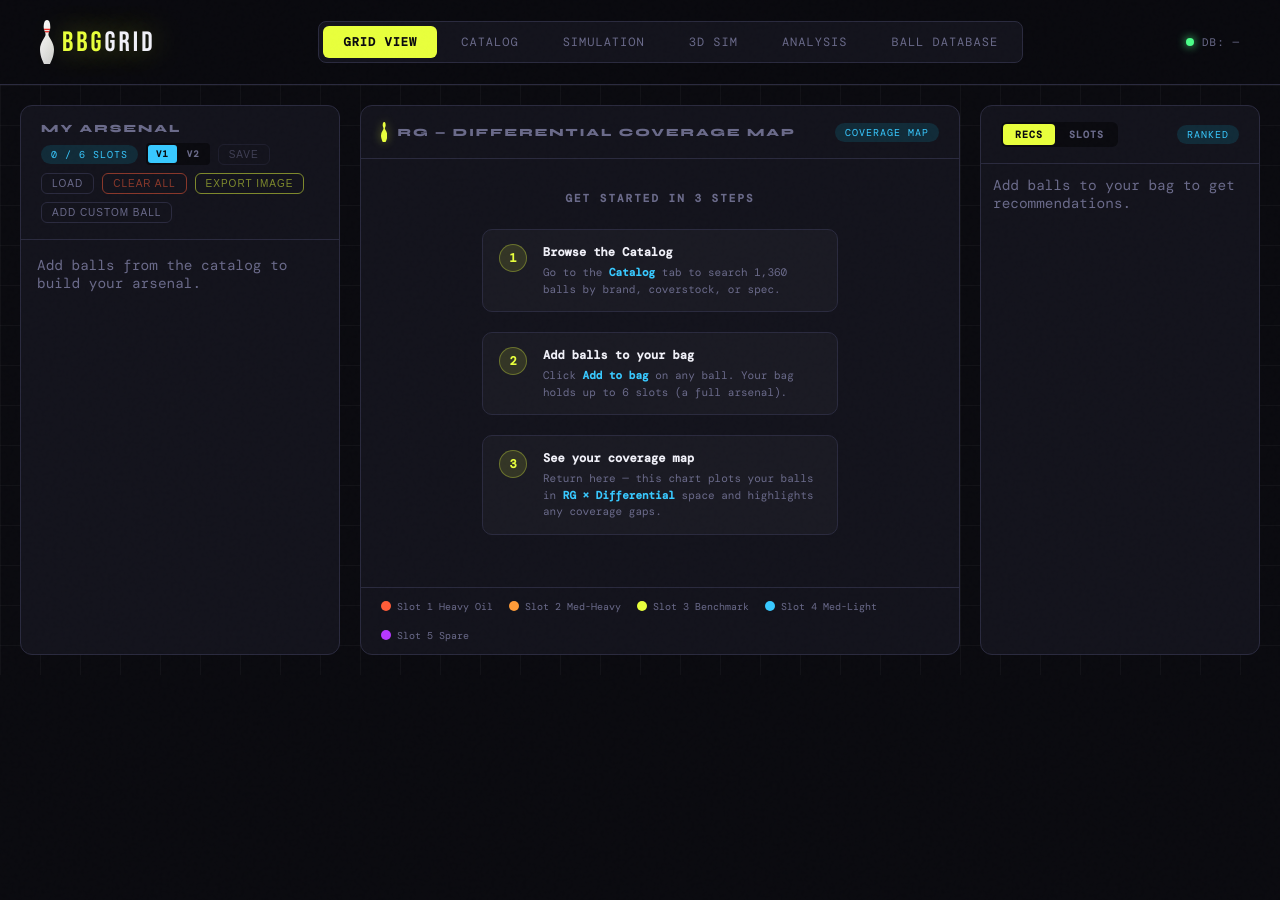
Test case: App integration › add ball from catalog to bag shows ball in arsenal on Grid View
Click the tab "Catalog" at (490, 42), box 441,26 -> 539,58
(page scrolled)
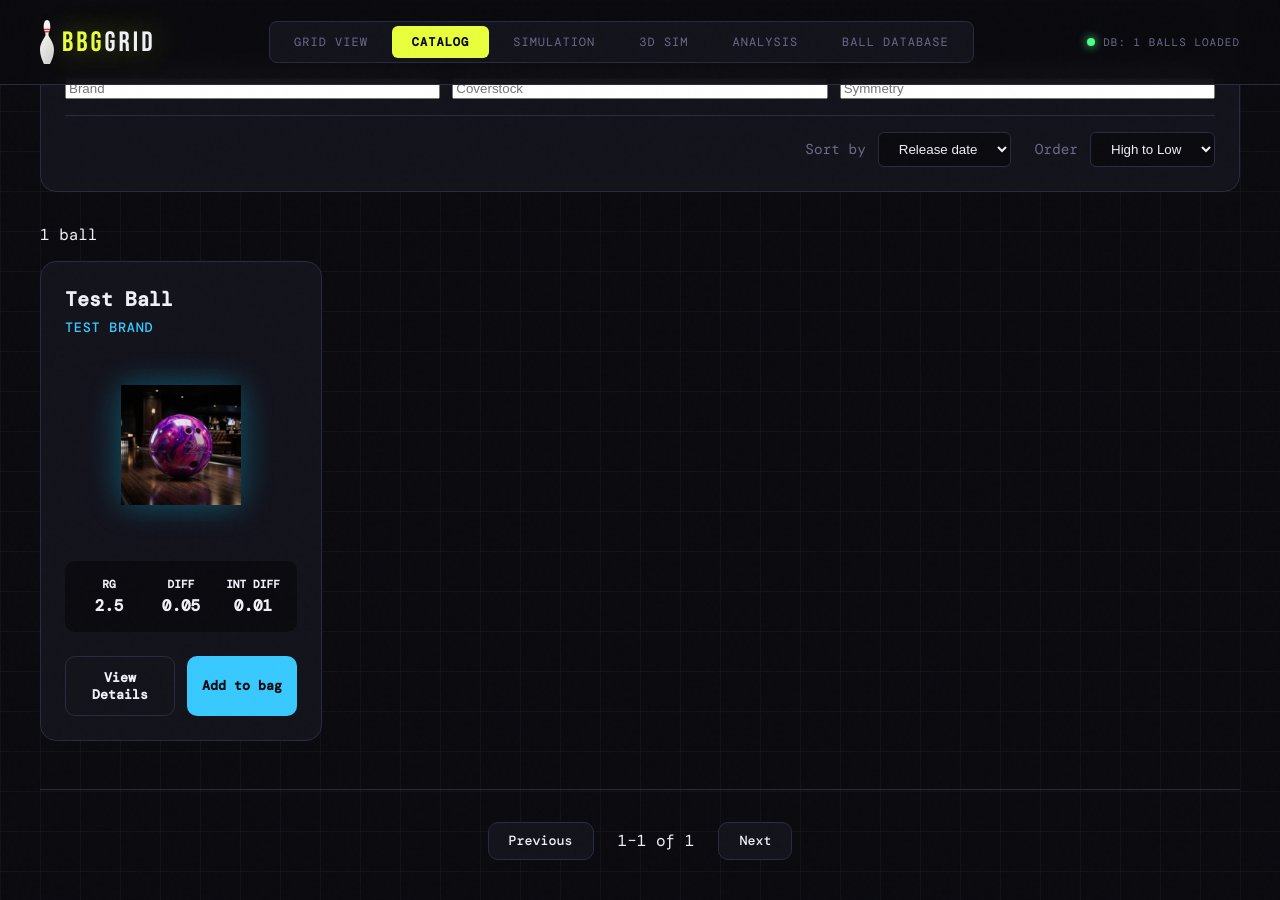
Expected: the text "Test Ball" is shown, 65,286 -> 173,312
Click the button "Add to bag" at (242, 686), box 187,656 -> 297,716
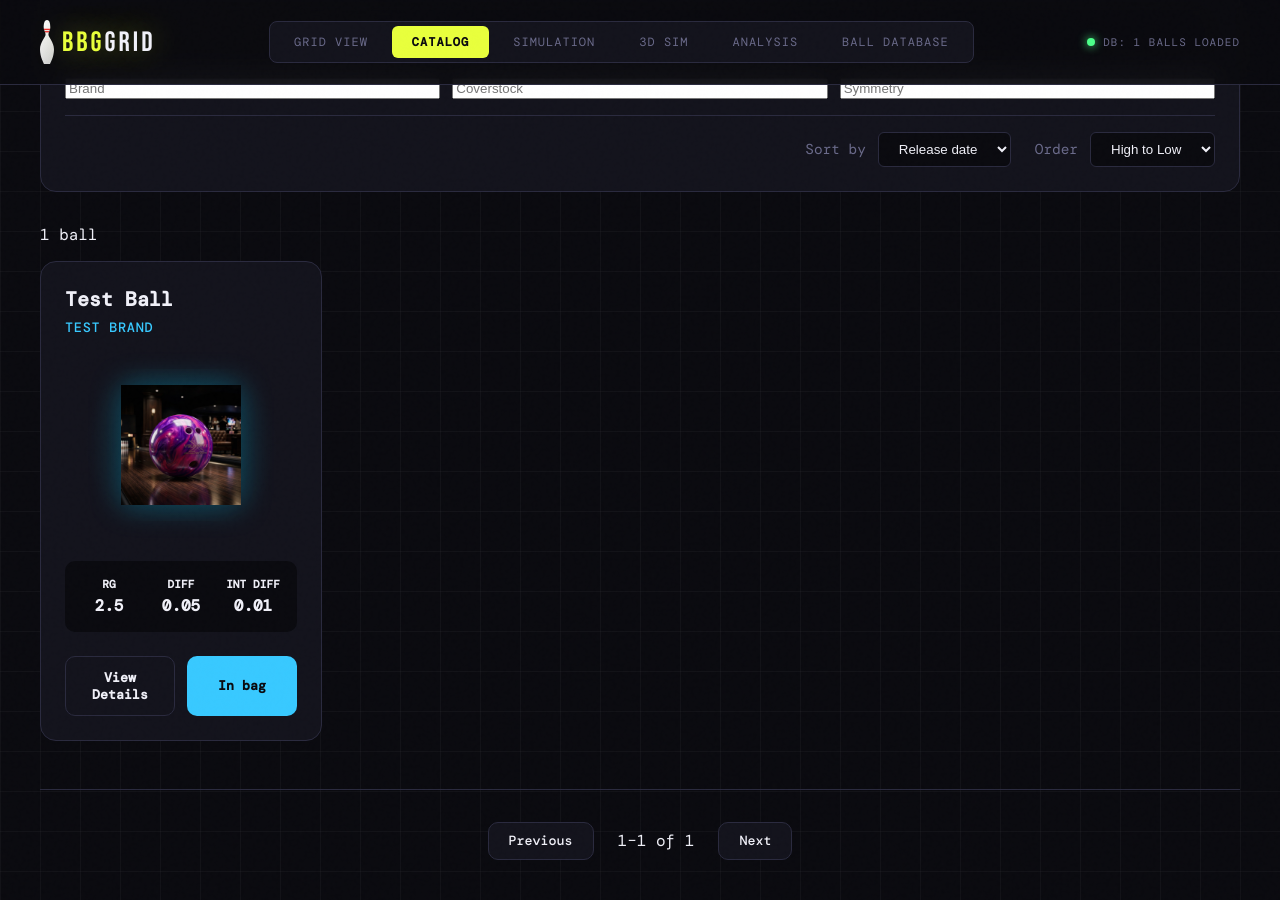
Expected: the button "In bag" is shown, 187,656 -> 297,716
Click the tab "Grid View" at (331, 42), box 274,26 -> 388,58
(page scrolled)
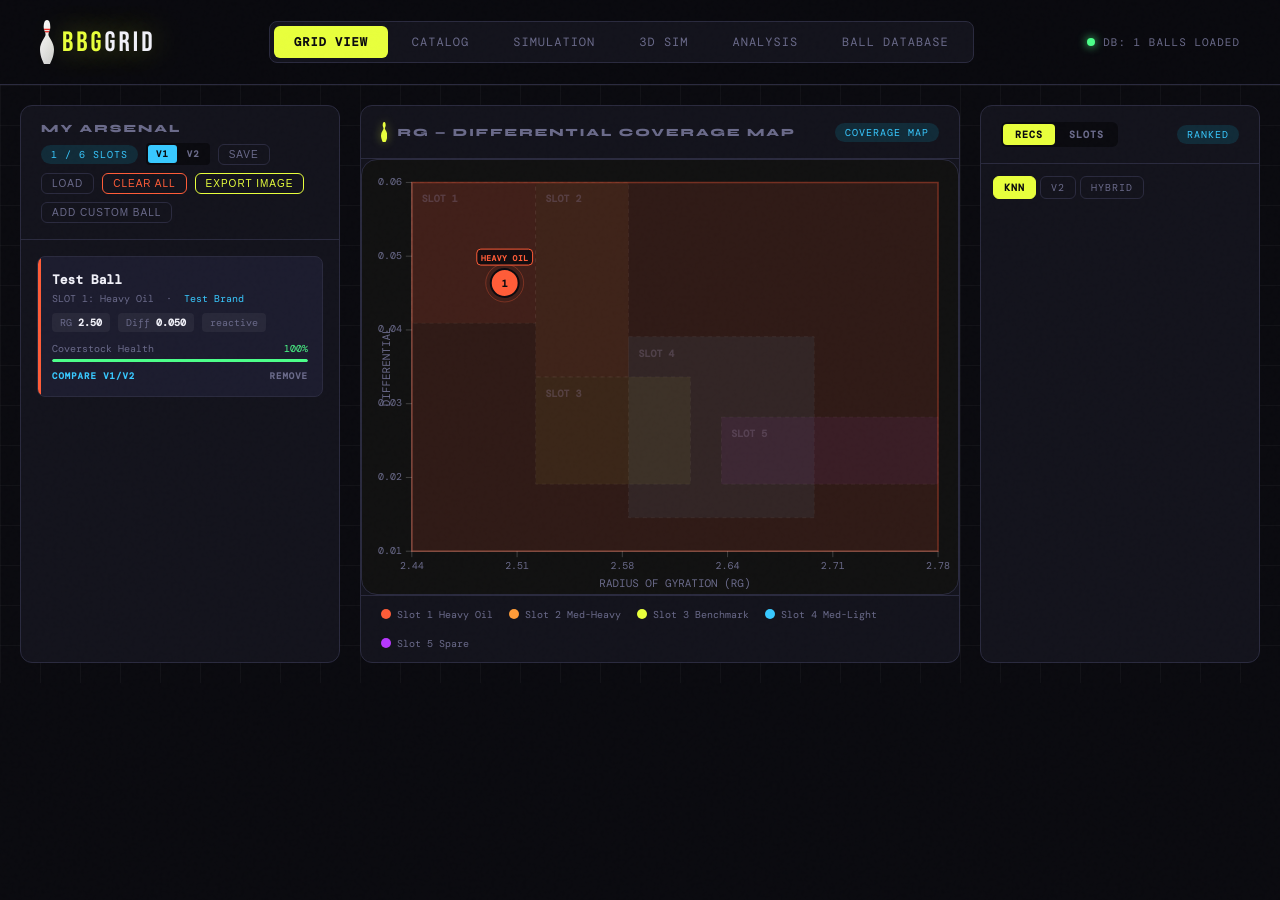
Expected: the text "Test Ball" is shown, 52,271 -> 122,288
Expected: the element with class "arsenal-panel" is shown, 21,106 -> 339,423
